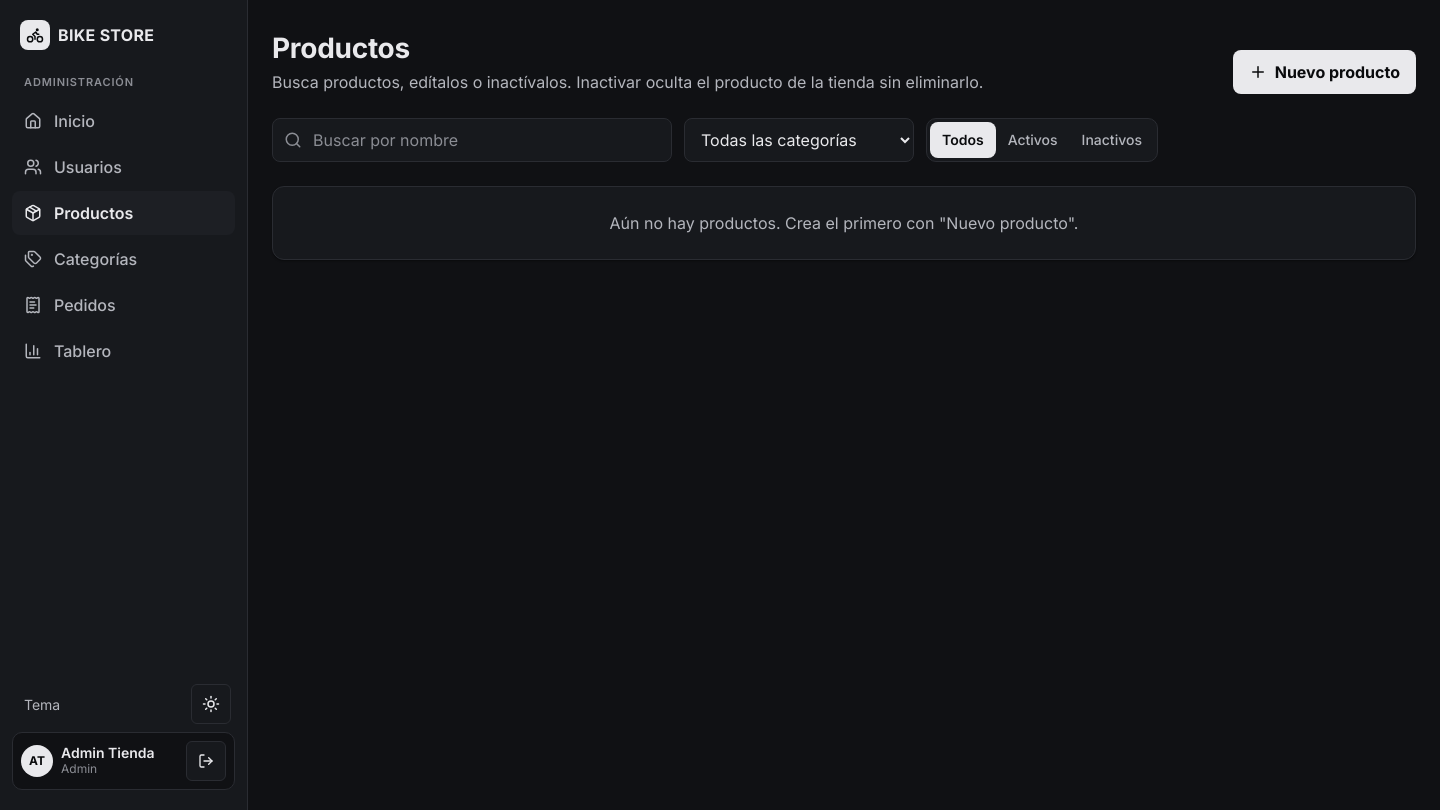
Test case: Listado (CU-15) › si ningún producto coincide, lo dice
Check: the text "Aún no hay productos. Crea el primero con \"Nuevo producto\"." is shown, box top-left (272, 186), bottom-right (1416, 260)
Step 1. Click the button "Inactivos" → (1112, 140), box top-left (1070, 122), bottom-right (1154, 158)
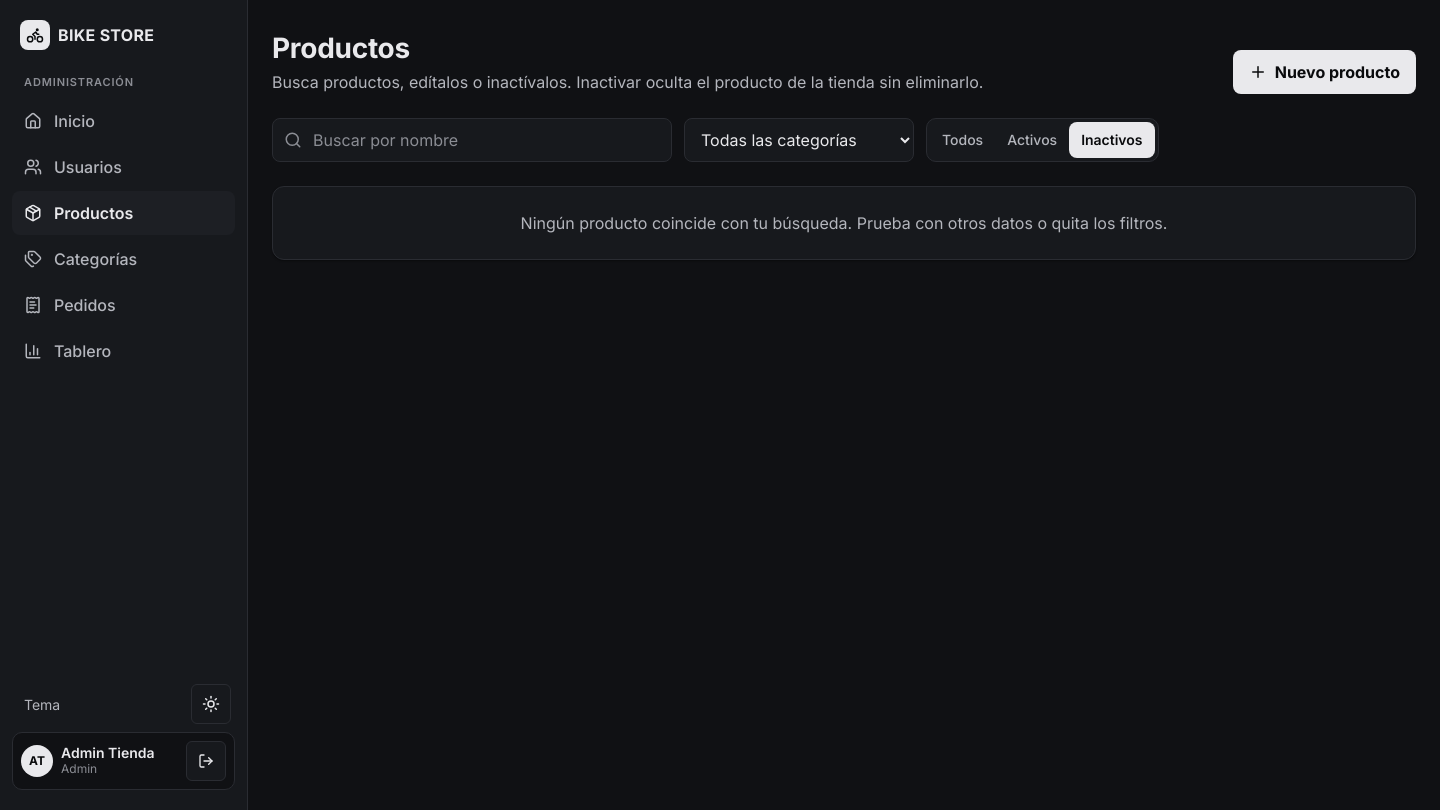
Check: the text "Ningún producto coincide" is shown, box top-left (521, 213), bottom-right (1167, 233)
